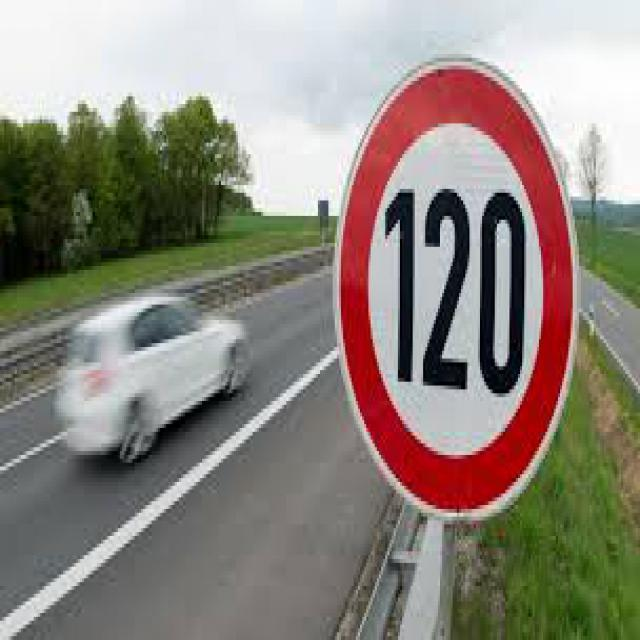speed limit 120: (336, 57, 578, 525)
